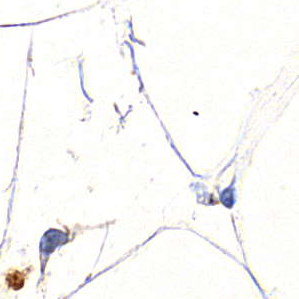Lymphocyte: (6, 268, 28, 290)
